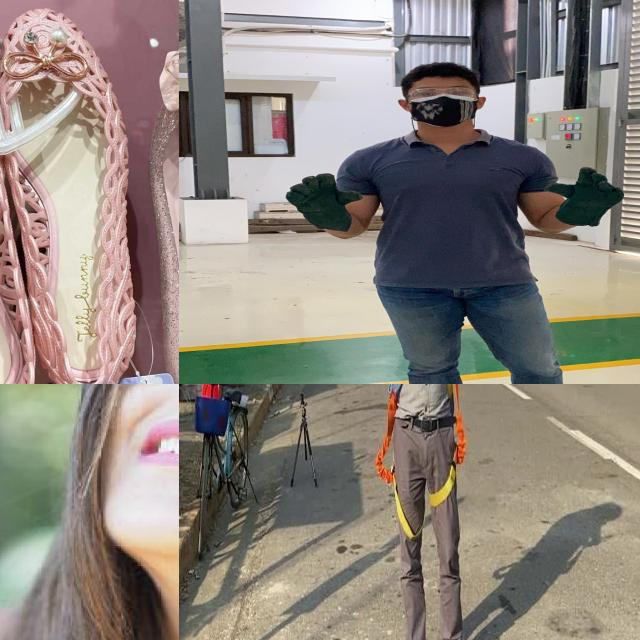Harness: (375, 388, 422, 540), (430, 384, 467, 508)
Sandals: (0, 0, 156, 384), (134, 0, 179, 384)
face_mask: (403, 86, 481, 122)
face_nomask: (107, 384, 179, 522)
glasses: (401, 84, 483, 103)
hand_glove: (537, 164, 633, 227), (280, 169, 363, 231)
head_nohelmet: (403, 59, 474, 86)
person: (278, 64, 640, 384)
